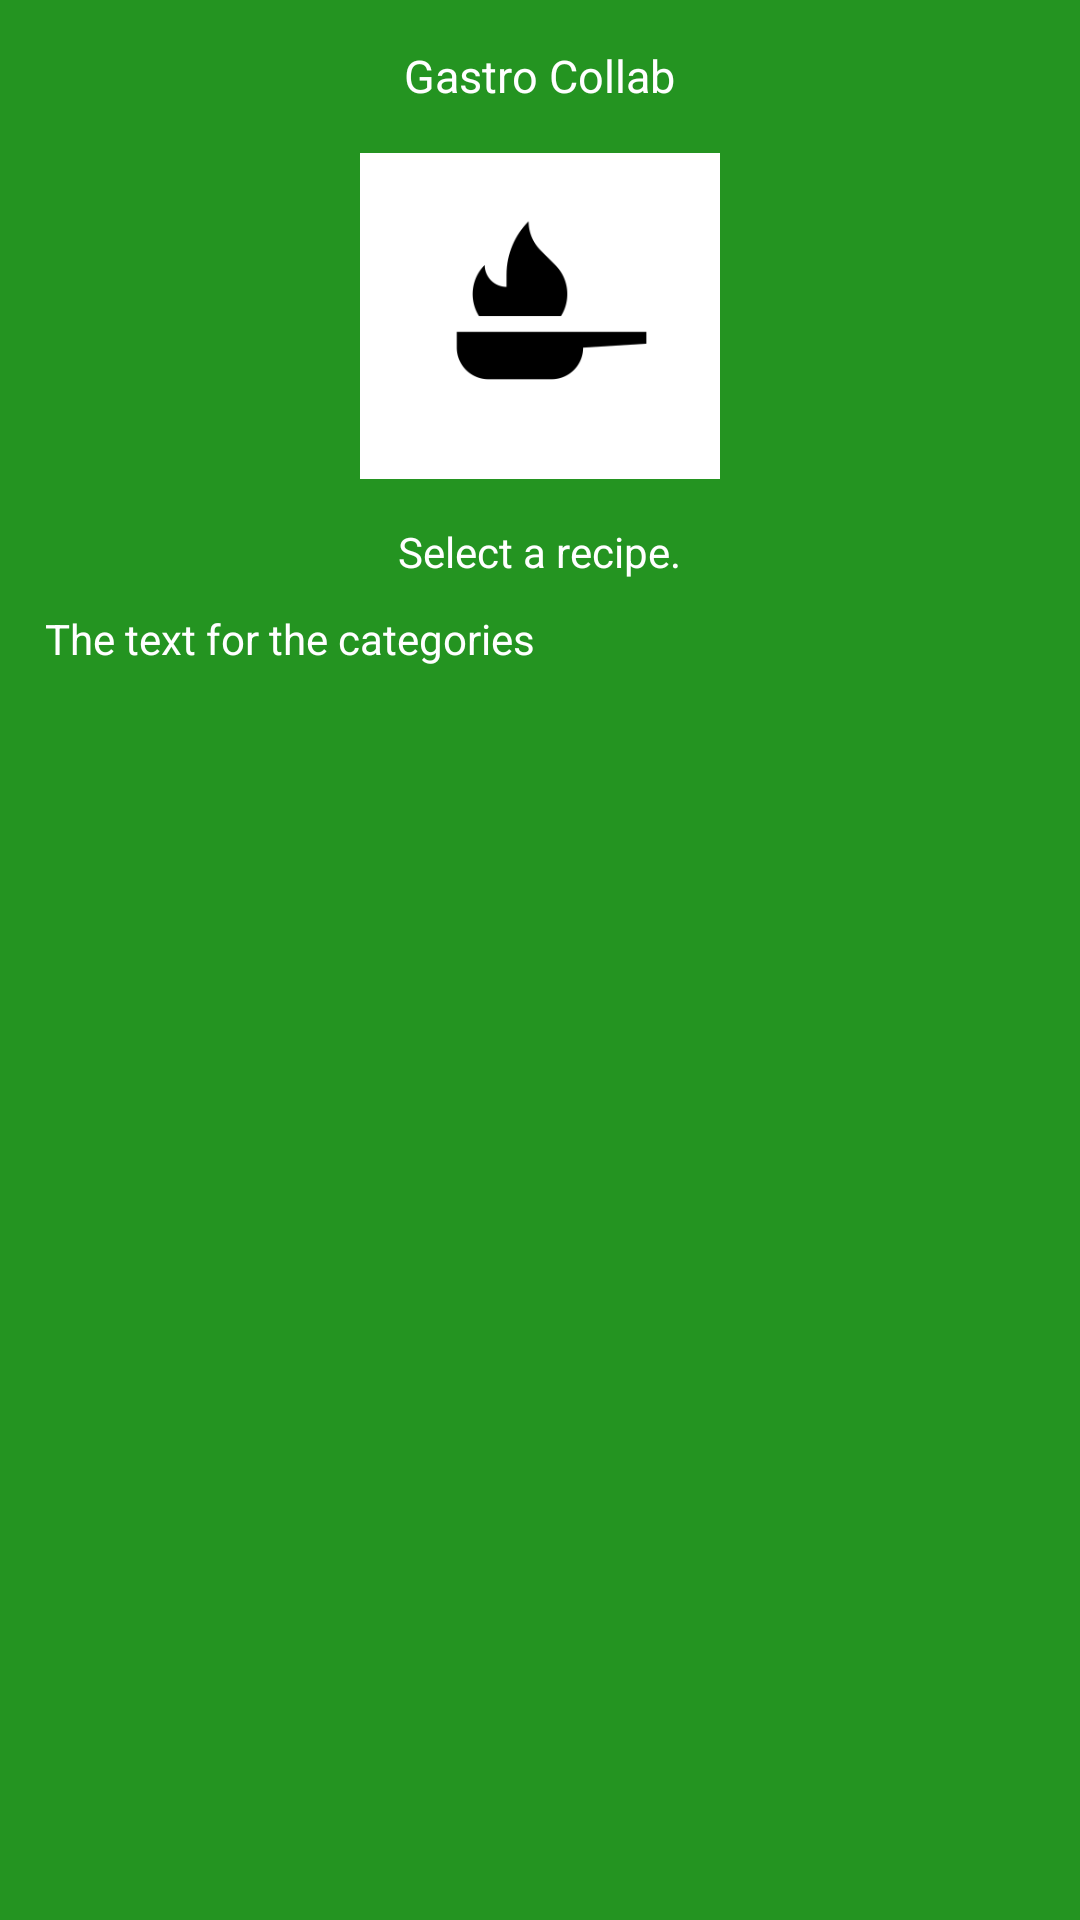

Point at icon controls on the screen. Image size 1080w x 1920h, points as [x,y].
pan: [540,316]
